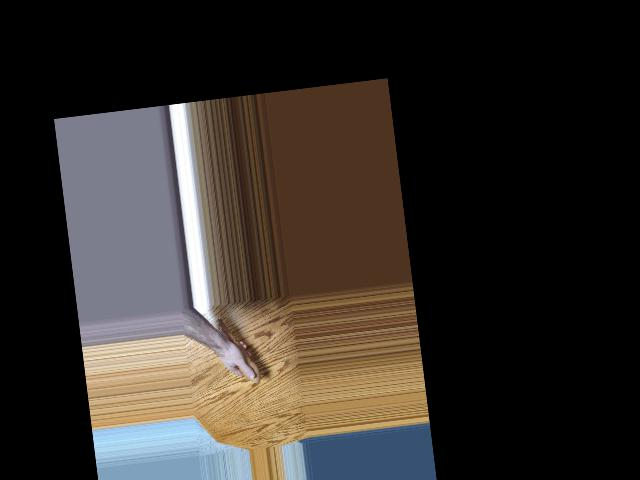sweet_potato: (213, 312, 259, 384)
